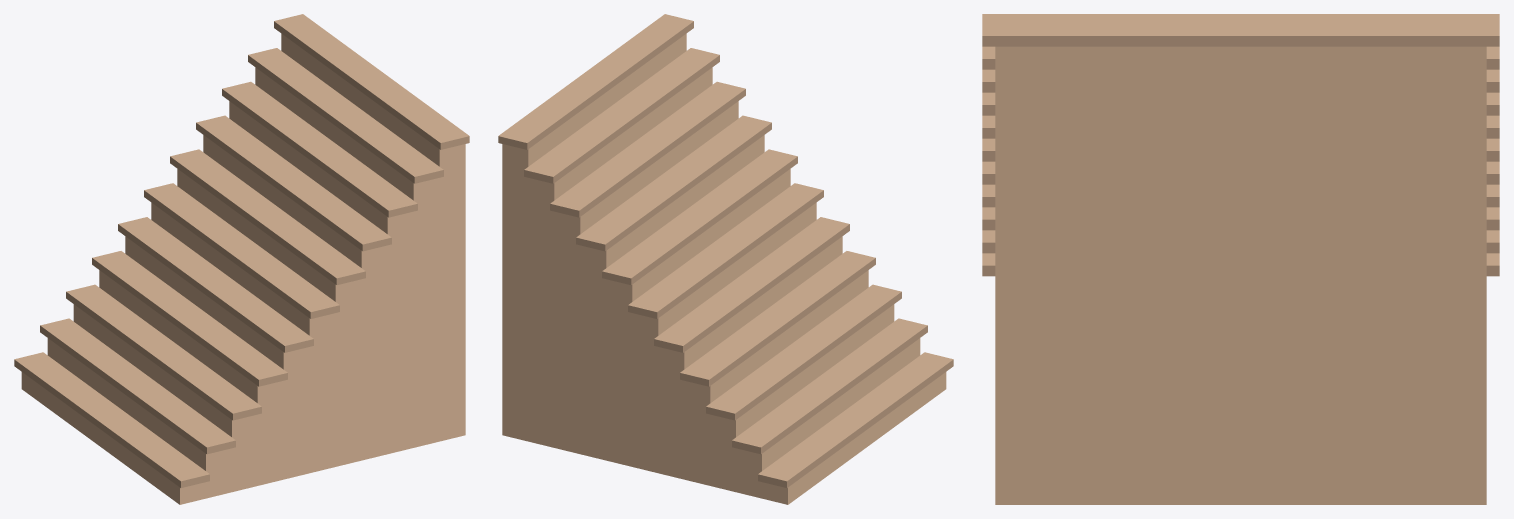
The model's file is kn-stairs.glb.
3 views of the same model, side by side, from view 1: azimuth 30°, elevation 25°; view 2: azimuth 150°, elevation 25°; view 3: azimuth 270°, elevation 25° (orthographic). The views are drawn at different scales.
Visible parts, largest first — view 1: stairs(Clone); view 2: stairs(Clone); view 3: stairs(Clone).
Part boxes in pixels (x1,y1,x2,y2): stairs(Clone): (14,14,469,504); stairs(Clone): (498,14,953,504); stairs(Clone): (982,14,1499,504).
Size of the model in its own units: 1 by 1 by 1.
